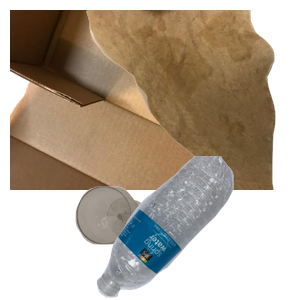cardboard: (10, 10, 250, 190)
glass: (73, 184, 214, 300)
plastic: (94, 156, 300, 300)
trash: (84, 10, 300, 190)
